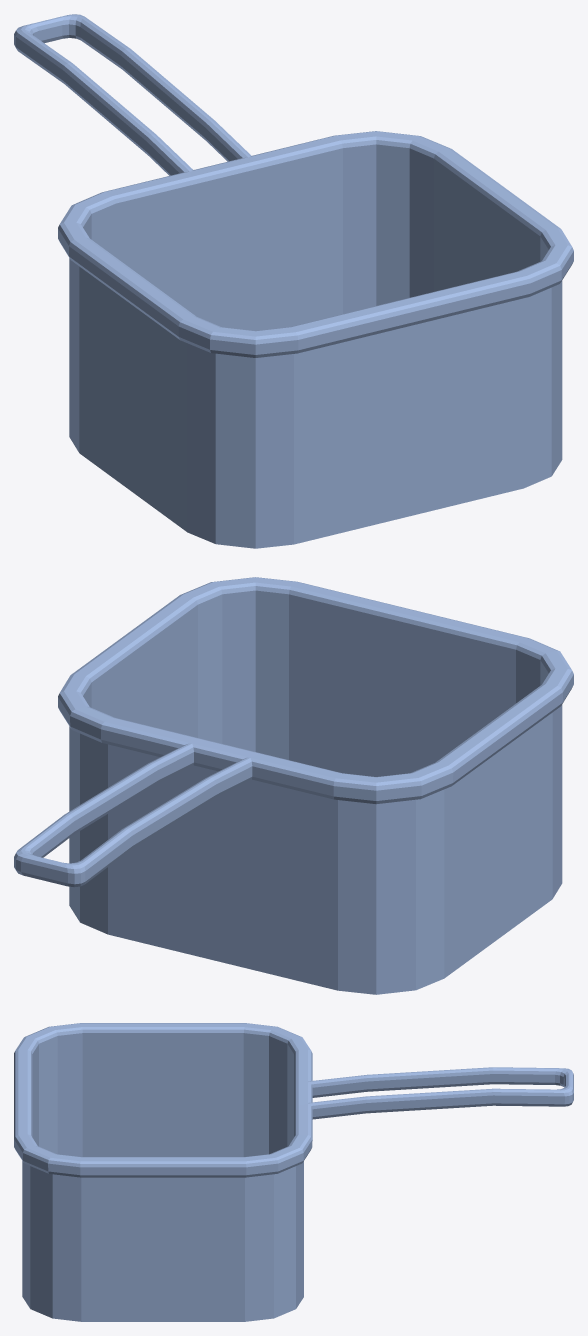
File: Estación_Freidora_Cesta_NoTextures.fbx
3 renders of one model, top to bottom at view 1: azimuth 30°, elevation 25°; view 2: azimuth 150°, elevation 25°; view 3: azimuth 270°, elevation 25°, orthographic. The views are drawn at different scales.
Visible parts, largest first — view 1: Cube.001; view 2: Cube.001; view 3: Cube.001.
Boxes of the visible parts, left/top/right/bottom form: Cube.001: left=14, top=14, right=573, bottom=548; Cube.001: left=14, top=577, right=573, bottom=994; Cube.001: left=14, top=1023, right=573, bottom=1321.
Size of the model in its own units: 71.12 by 41.16 by 119.
